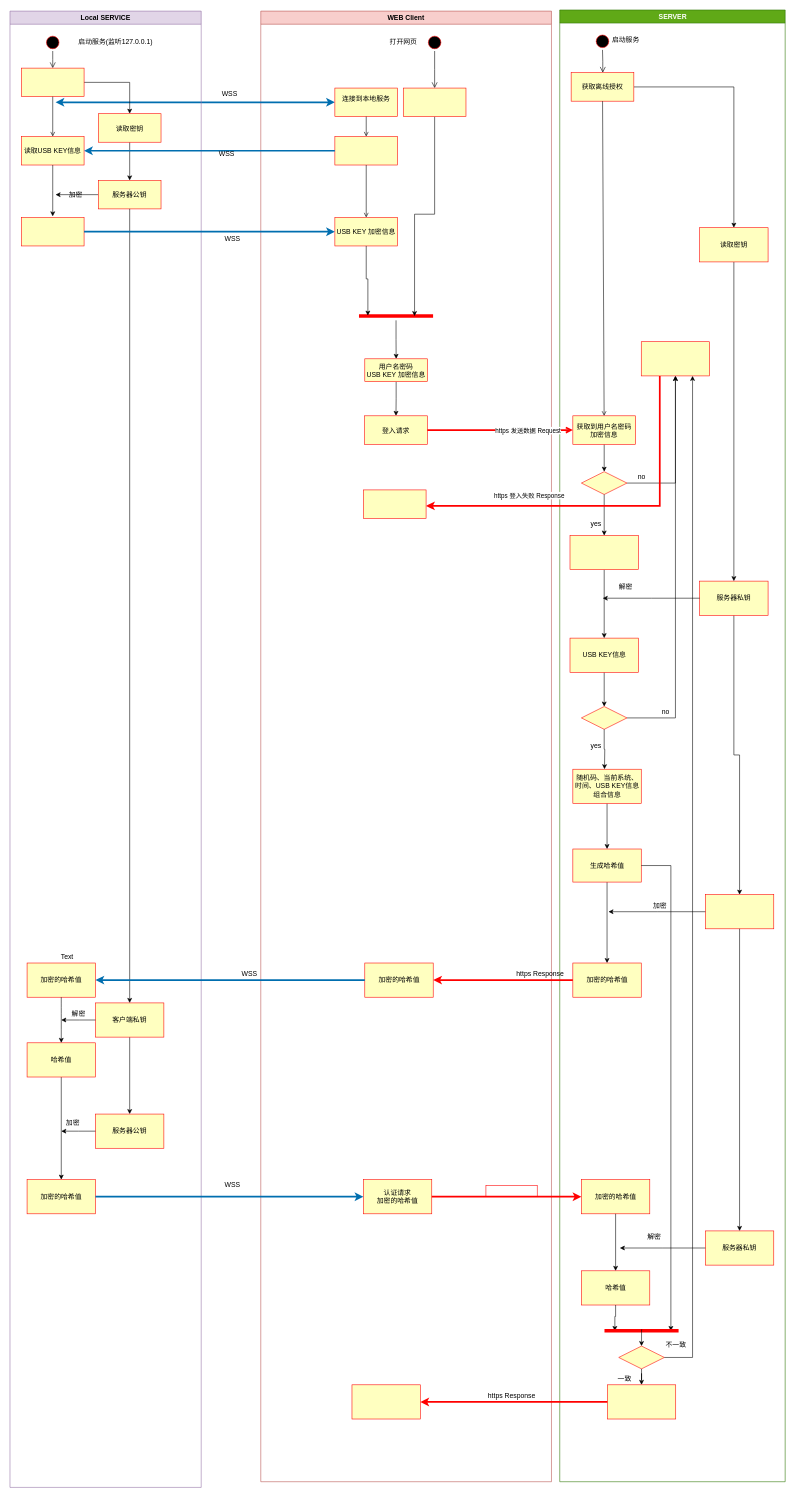
The diagram is 795 pixels wide and 1497 high, and some of its shapes have lost their labels. Here are the shapes that lost their labels. From the top down, the centre of each, then its label:
At point (52, 82): "获取USB KEY授权".
At point (434, 102): "获取用户名密码".
At point (366, 150): "获取USB KEY信息".
At point (52, 231): "加密的USB KEY信息".
At point (675, 358): "错误响应".
At point (604, 482): "用户名密码 校验".
At point (394, 503): "登入失败".
At point (603, 552): "USBKEY 加密信息".
At point (604, 717): "USB KEY 信息校验".
At point (739, 911): "客户端公钥".
At point (511, 1191): "https Request".
At point (641, 1357): "哈希值比对".
At point (385, 1401): "登入成功".
At point (641, 1401): "允许登入操作".
